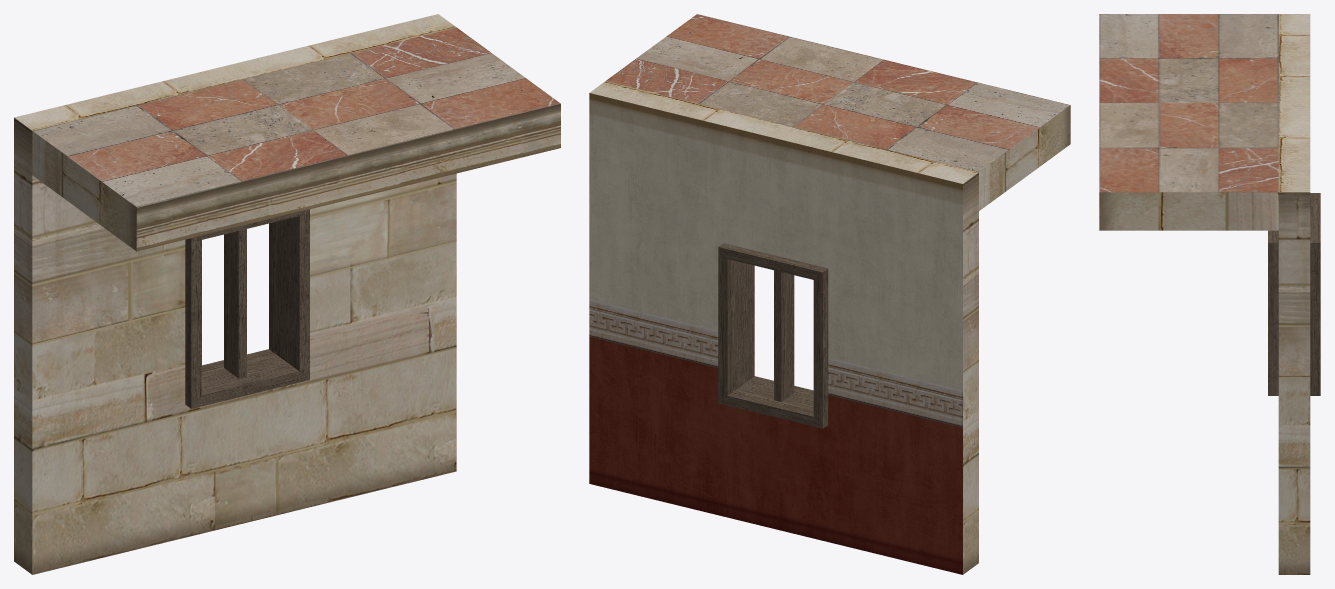
Rendered from svspartawindow4.dae.
3 views of the same model, side by side, from view 1: azimuth 30°, elevation 25°; view 2: azimuth 150°, elevation 25°; view 3: azimuth 270°, elevation 25° (orthographic). The views are drawn at different scales.
Parts seen in each view (by area): view 1: unnamed_object6_copy48-0; view 2: unnamed_object6_copy48-0; view 3: unnamed_object6_copy48-0.
Boxes of the visible parts, left/top/right/bottom form: unnamed_object6_copy48-0: left=14, top=14, right=560, bottom=574; unnamed_object6_copy48-0: left=589, top=14, right=1070, bottom=574; unnamed_object6_copy48-0: left=1099, top=14, right=1320, bottom=574.
Bounding box in the file's own units: 300 × 300 × 158.
